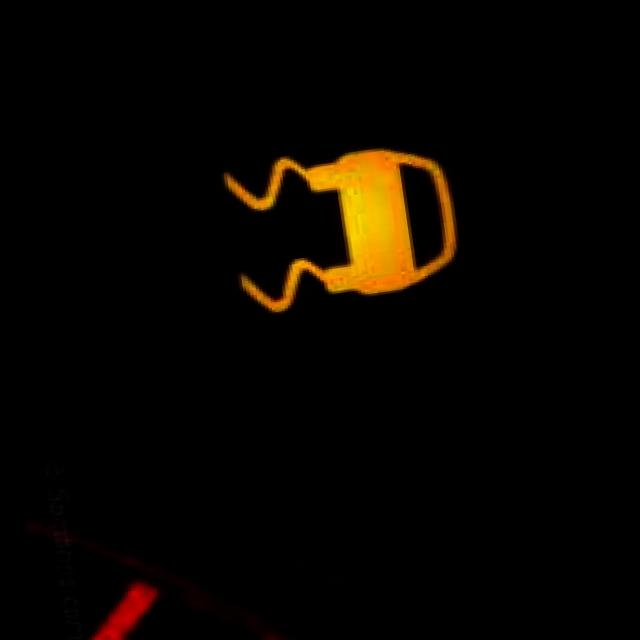kontrolka: (174, 106, 509, 345)
